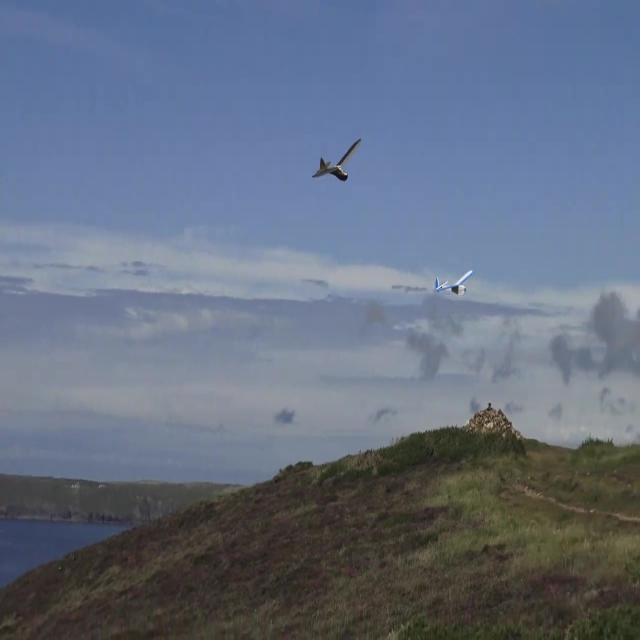iha: (312, 135, 362, 186), (426, 266, 470, 298)
